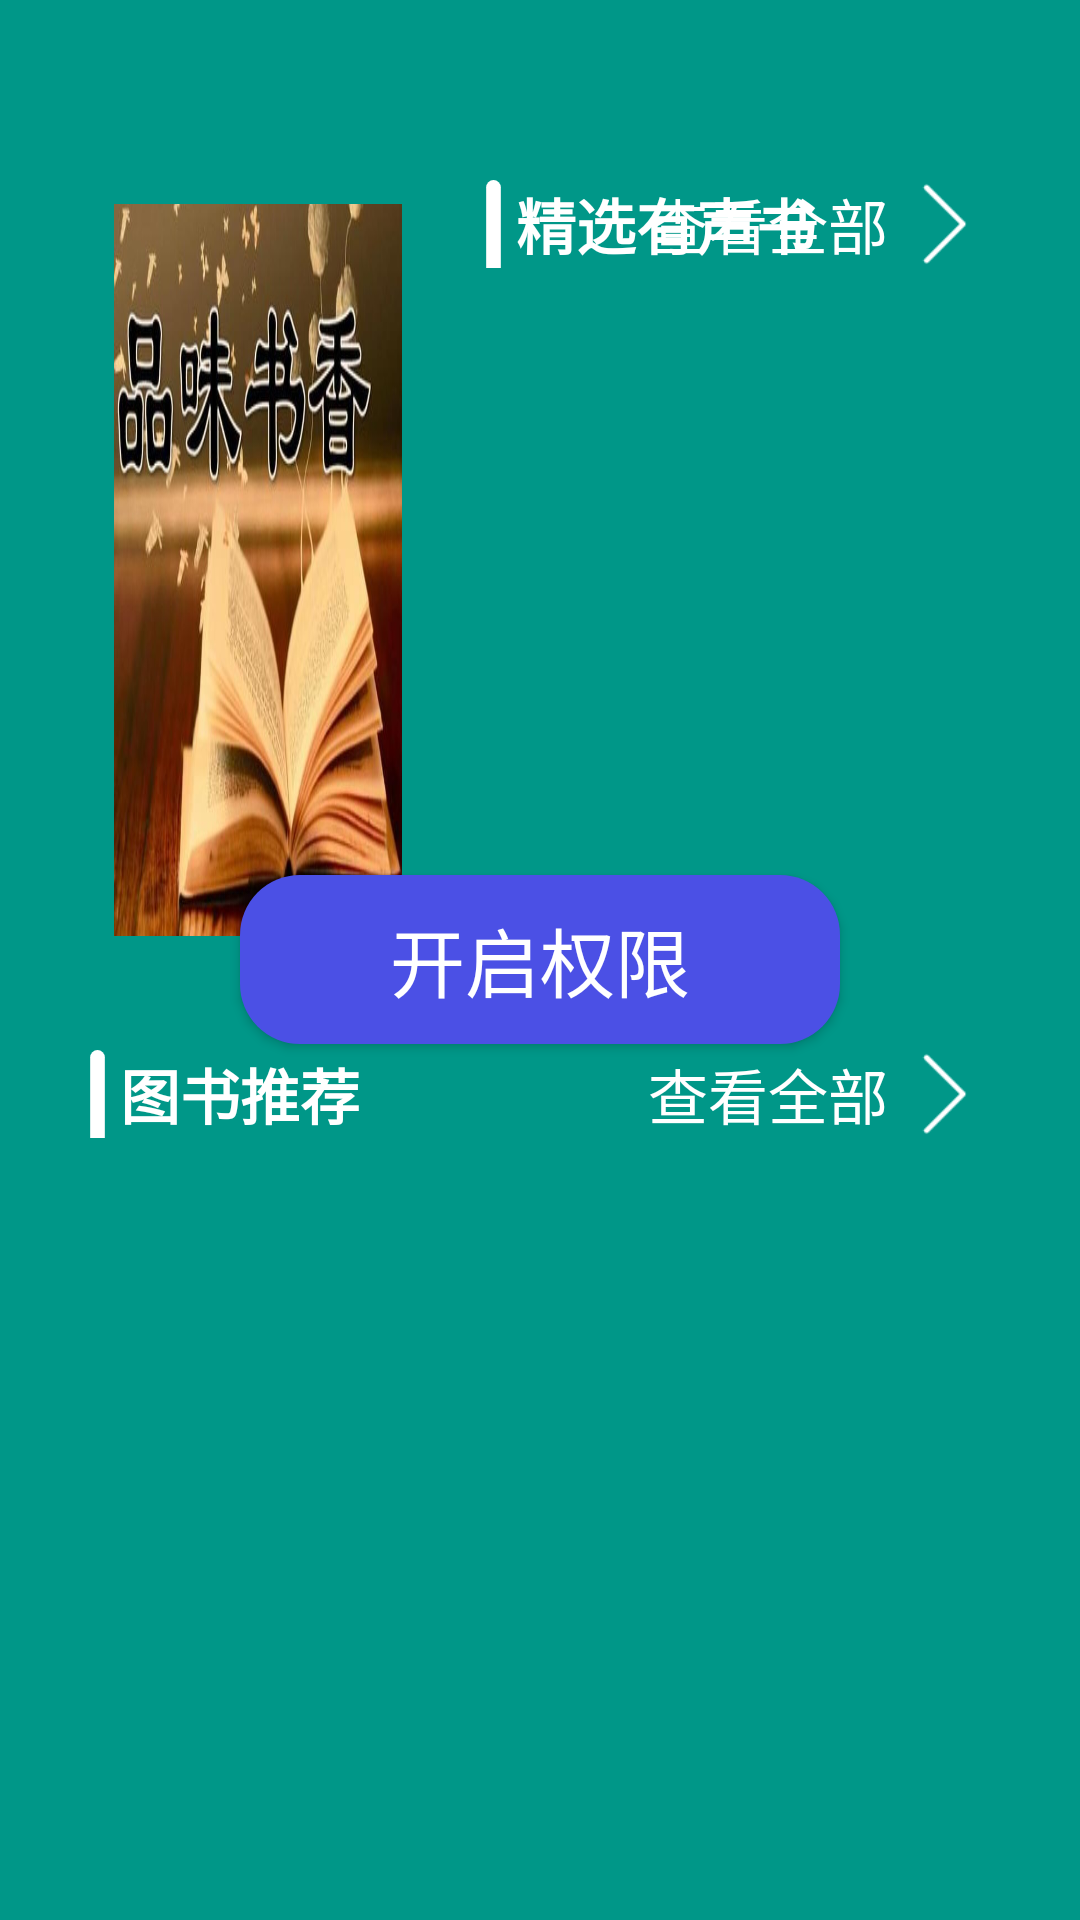

Screen size 1080px x 1920px. Icon name, then its box in pixels as {"x1": x1, "y1": y1, "x2": x2, "y2": y2}:
next: {"x1": 923, "y1": 184, "x2": 966, "y2": 264}, {"x1": 923, "y1": 1054, "x2": 966, "y2": 1134}
